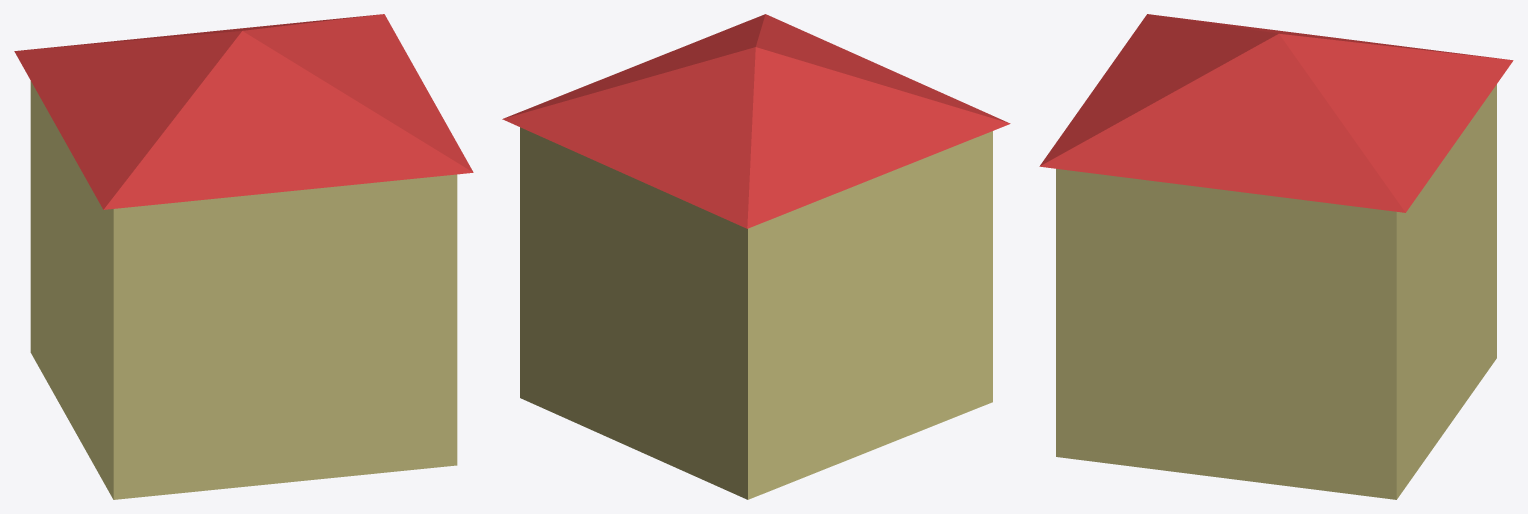
The picture shows the model from 3 angles, left to right: view 1: azimuth 30°, elevation 25°; view 2: azimuth 150°, elevation 25°; view 3: azimuth 270°, elevation 25°; orthographic projection. The views are drawn at different scales.
Parts seen in each view (by area): view 1: group_5, group_3, group_4; view 2: group_5, group_3, group_4; view 3: group_5, group_3, group_4.
Boxes of the visible parts, x1,y1,x2,y2 form: group_5: (30, 81, 457, 499); group_3: (14, 14, 473, 209); group_4: (15, 52, 465, 209); group_5: (520, 127, 992, 499); group_3: (502, 14, 992, 228); group_4: (750, 16, 1010, 227); group_5: (1056, 84, 1496, 499); group_3: (1039, 15, 1513, 212); group_4: (1042, 14, 1462, 162).
Bounding box in the file's own units: 17.52 × 17.66 × 15.34.
